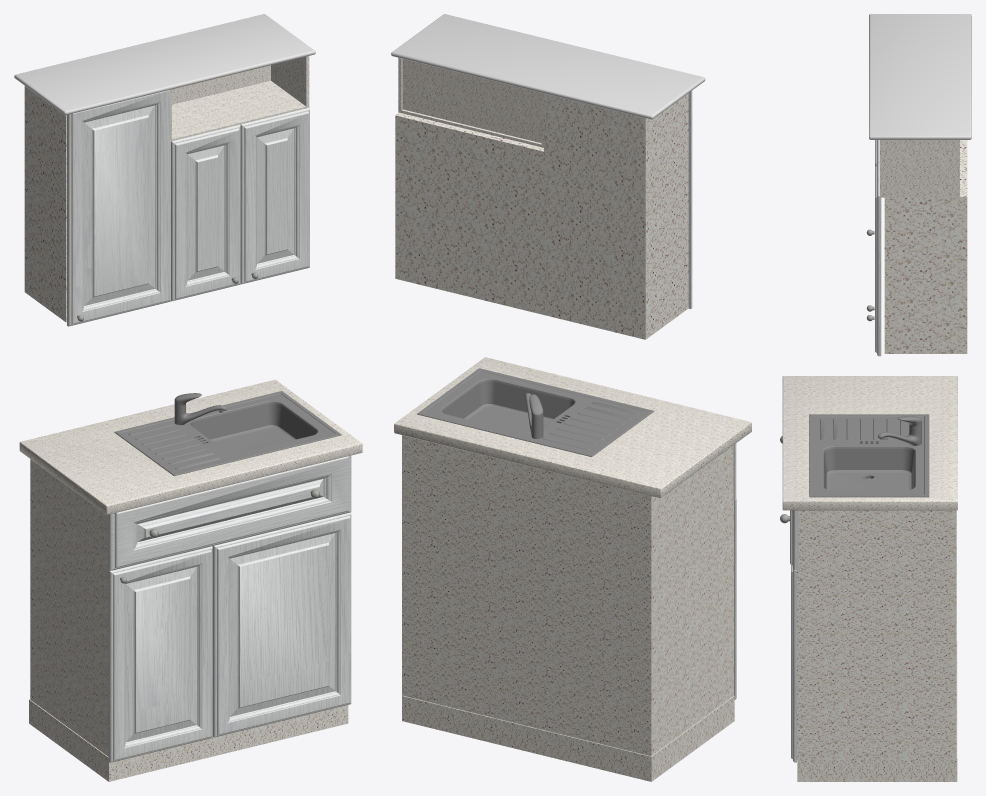
File: advanceKitchen.fbx
The picture shows the model from 3 angles, left to right: view 1: azimuth 30°, elevation 25°; view 2: azimuth 150°, elevation 25°; view 3: azimuth 270°, elevation 25°; orthographic projection. The views are drawn at different scales.
Parts seen in each view (by area): view 1: Cylinder15991, Cylinder16000, Cylinder15992, Box03.001, ChamferBox01, Cylinder11, ChamferBox02, Cylinder16001, Cylinder16002, moyka, Куб, Box09 (+2 smaller); view 2: Box03.001, Куб, ChamferBox01, ChamferBox02, moyka, Box09, Box10, WRectangle01, Cylinder16000; view 3: Box03.001, ChamferBox01, Куб, ChamferBox02, moyka, WRectangle01, Box09, Cylinder16002, Cylinder15991, Cylinder11.
Boxes of the visible parts, x1,y1,x2,y2 form: Cylinder15991: (212, 512, 351, 737); Cylinder16000: (67, 89, 170, 326); Cylinder15992: (108, 546, 212, 762); Box03.001: (30, 459, 108, 756); ChamferBox01: (19, 379, 362, 514); Cylinder11: (108, 455, 351, 570); ChamferBox02: (14, 14, 315, 115); Cylinder16001: (171, 124, 240, 301); Cylinder16002: (240, 107, 309, 284); moyka: (114, 391, 341, 476); Куб: (24, 86, 66, 322); Box09: (29, 699, 348, 781); Box03.001: (402, 435, 733, 756); Куб: (395, 93, 688, 339); ChamferBox01: (394, 357, 751, 498); ChamferBox02: (391, 14, 705, 119); moyka: (417, 368, 654, 456); Box09: (402, 695, 734, 781); Box10: (402, 59, 541, 142); WRectangle01: (398, 58, 543, 147); Cylinder16000: (688, 90, 692, 308); Box03.001: (797, 510, 956, 759); ChamferBox01: (782, 376, 957, 510); Куб: (884, 140, 967, 353); ChamferBox02: (869, 14, 971, 139); moyka: (809, 414, 929, 497); WRectangle01: (880, 140, 959, 197); Box09: (797, 641, 957, 781); Cylinder16002: (875, 162, 881, 356); Cylinder15991: (791, 565, 796, 762); Cylinder11: (790, 510, 798, 570).
Size of the model in its own units: 111 by 268 by 72.
Materials: 6 (5 with a texture image).
